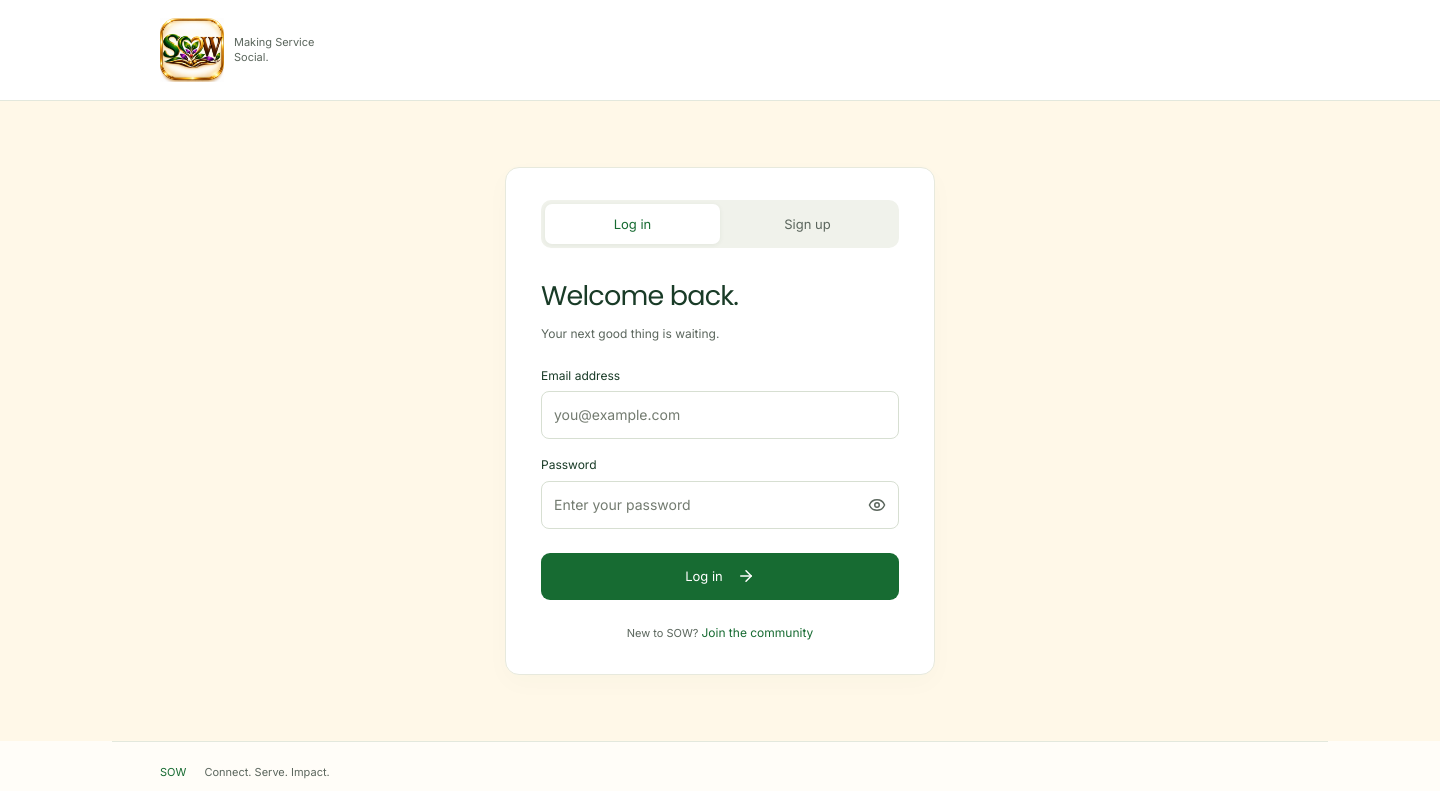
Test: local client walkthrough › blocks empty/invalid forms, allows demo login, and clears the session on logout
Click the button "Log in" at point(720, 576), box [541, 553, 899, 600]
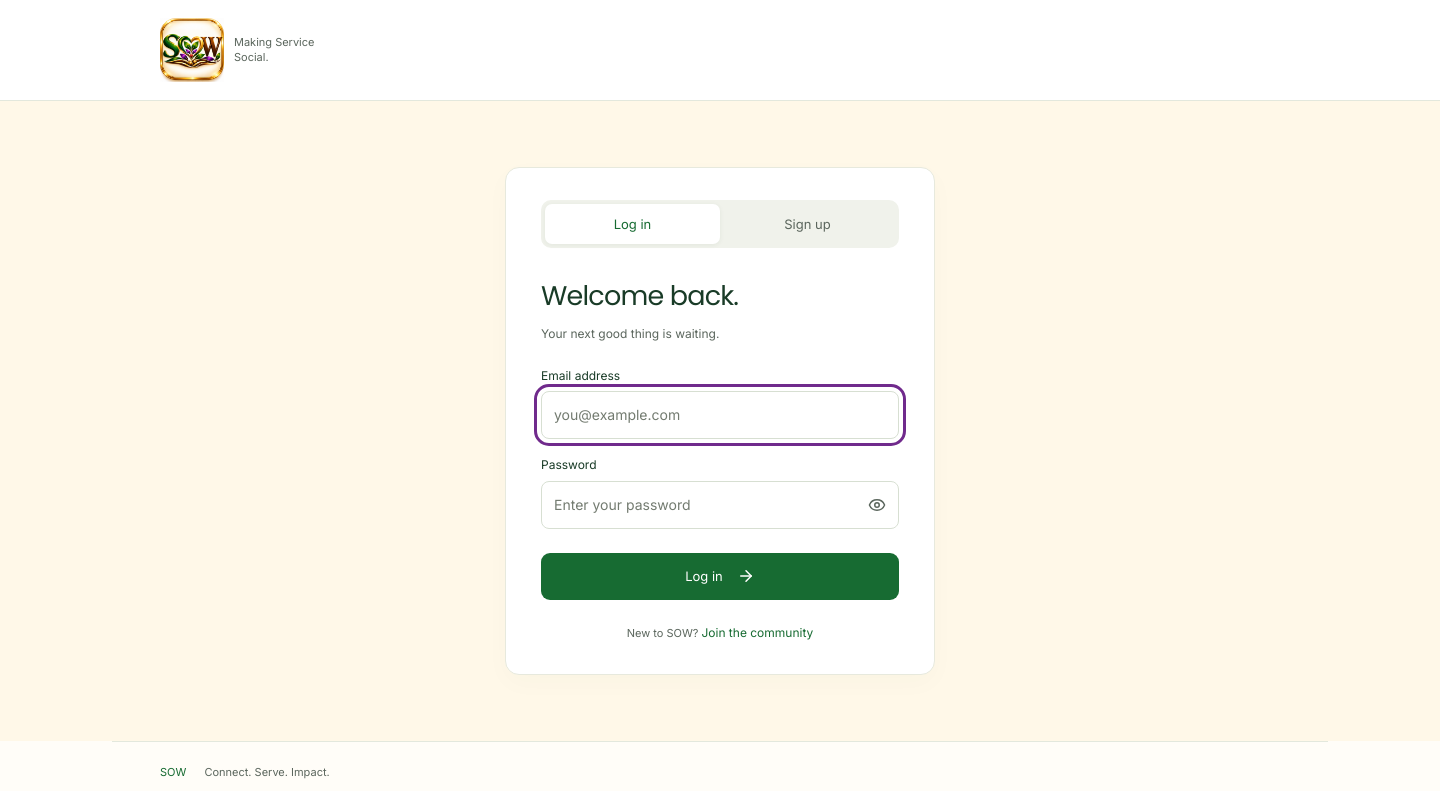
Type "invalid" into the field labelled "Email address" at point(720, 415), box [541, 391, 899, 439]
Type "demo-only" into the password field labelled "Password" at point(720, 505), box [541, 481, 899, 529]
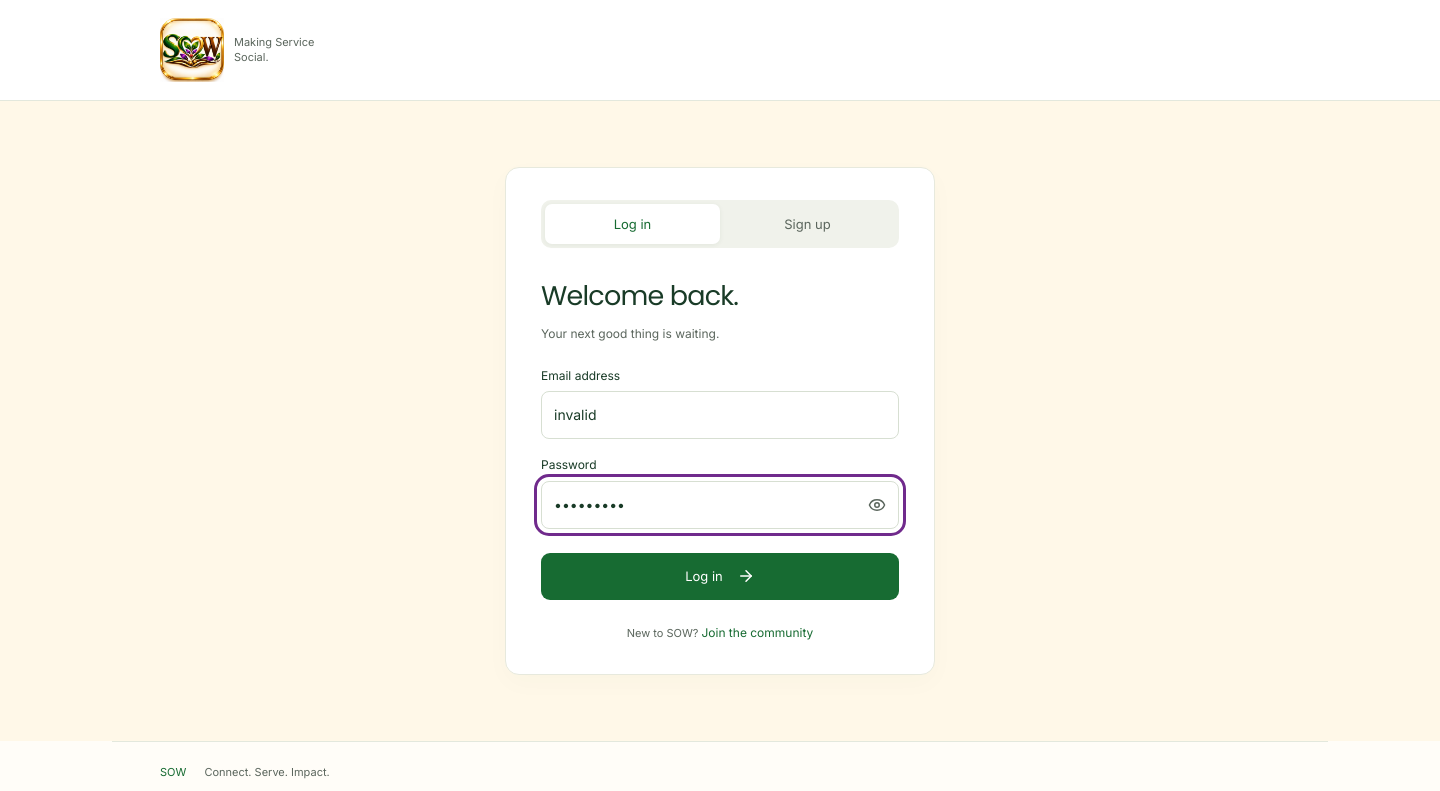
Click the button "Log in" at point(720, 576), box [541, 553, 899, 600]
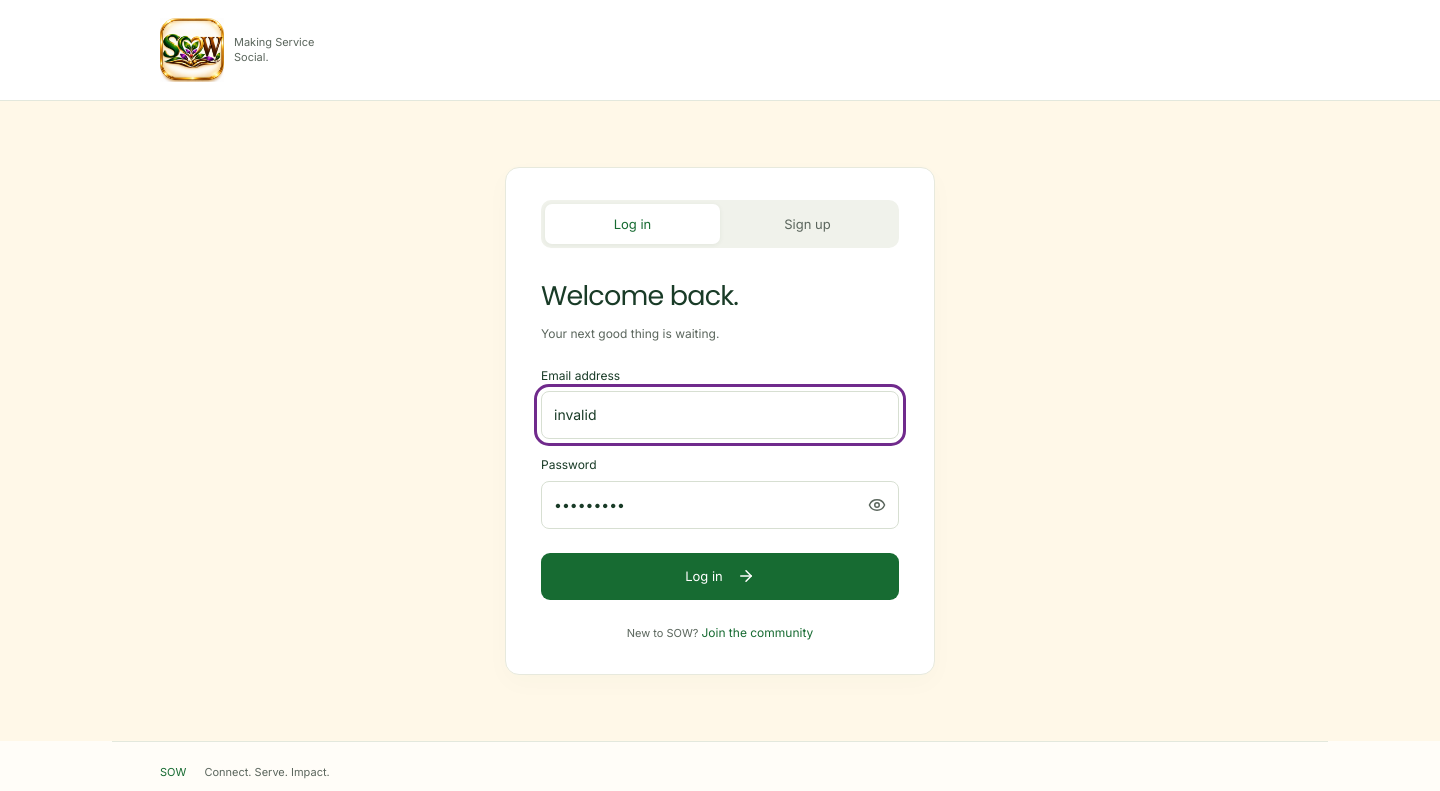
Replace the text in the field labelled "Email address" with "demo@example.com" at point(720, 415), box [541, 391, 899, 439]
Click the button named "Show password" at point(877, 505), box [858, 481, 896, 529]
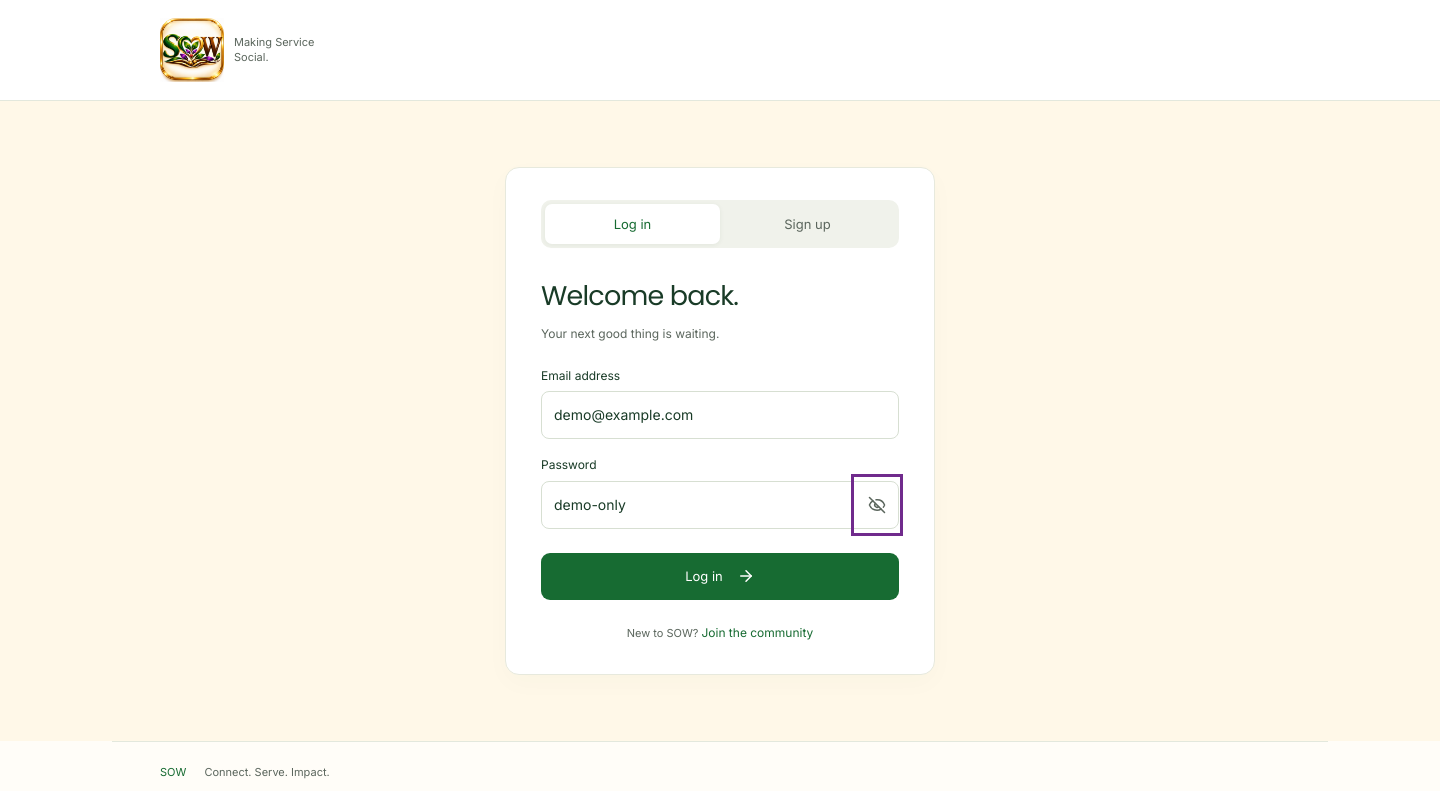
Expected: the field labelled "Password" shows its text, [541, 481, 899, 529]
Click the button "Log in" at point(720, 576), box [541, 553, 899, 600]
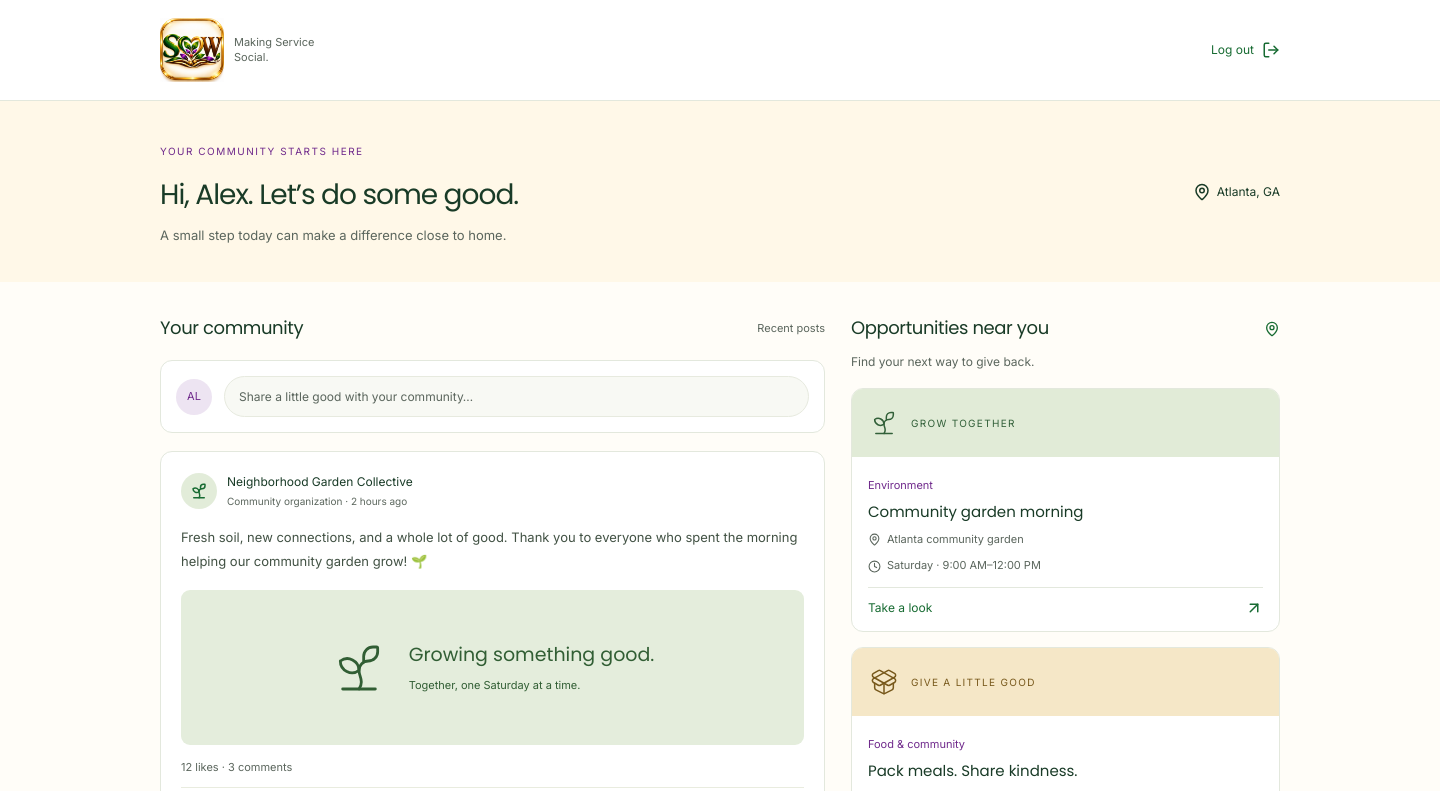
Click the button "Log out" at point(1246, 50), box [1211, 40, 1280, 60]
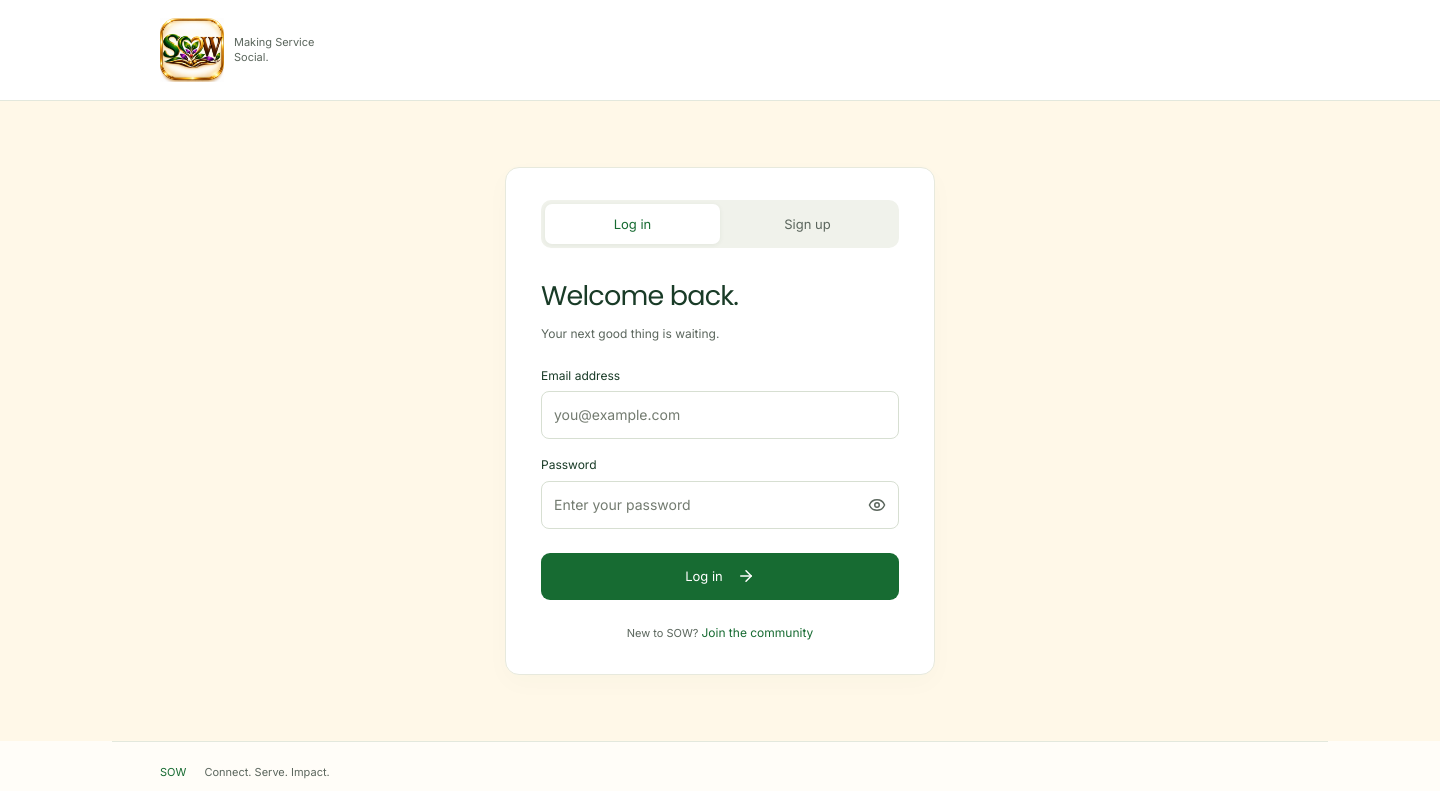
Expected: the heading "Welcome back." is shown, [541, 277, 738, 314]
